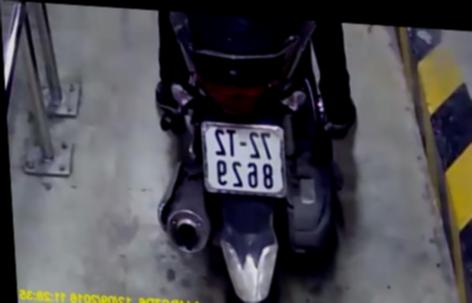License_Plate: (189, 115, 300, 201)
